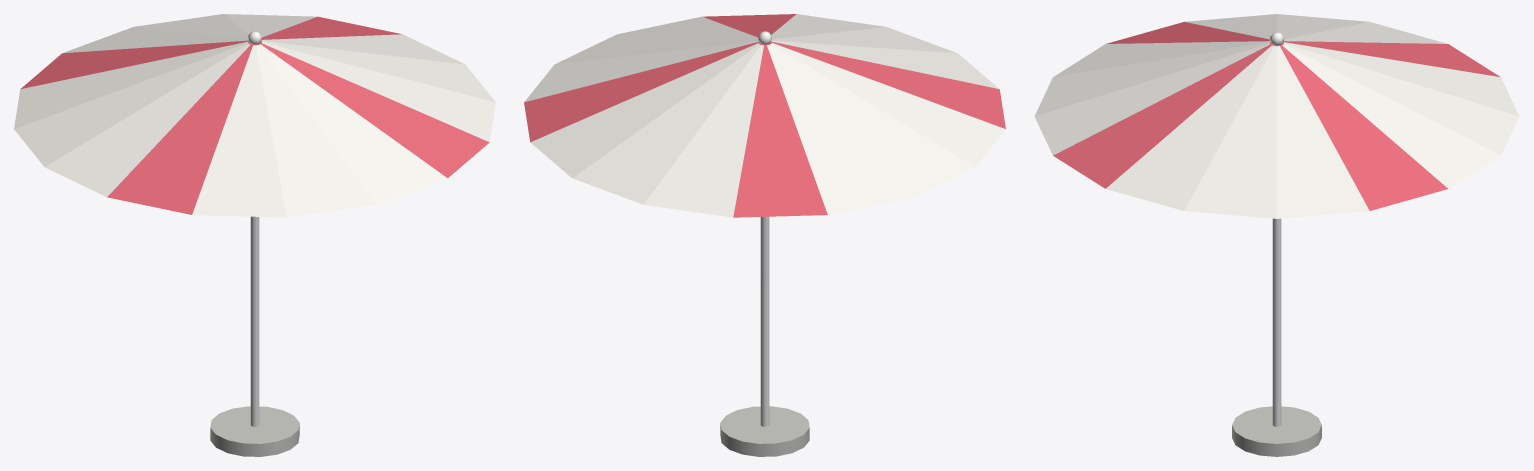
Rendered from SM_MarketUmbrella.fbx.
The picture shows the model from 3 angles, left to right: view 1: azimuth 30°, elevation 25°; view 2: azimuth 150°, elevation 25°; view 3: azimuth 270°, elevation 25°; orthographic projection.
Visible parts, largest first — view 1: SM_MarketUmbrella; view 2: SM_MarketUmbrella; view 3: SM_MarketUmbrella.
Part boxes in pixels (<box>): SM_MarketUmbrella: <box>14,14,495,456</box>; SM_MarketUmbrella: <box>524,14,1005,456</box>; SM_MarketUmbrella: <box>1034,14,1519,456</box>.
Size of the model in its own units: 2.7 by 2.49 by 2.7.
